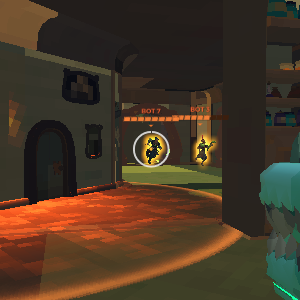model: (145, 131, 164, 170), (191, 133, 212, 166)
